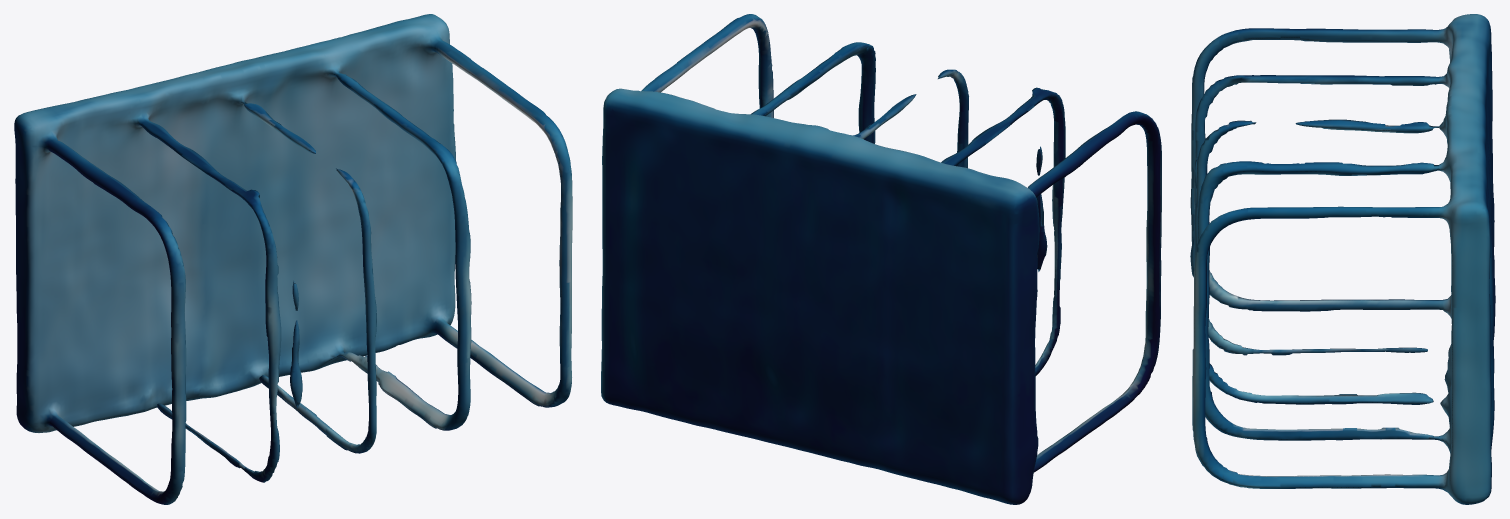
Rendered from sorter.glb.
The picture shows the model from 3 angles, left to right: view 1: azimuth 30°, elevation 25°; view 2: azimuth 150°, elevation 25°; view 3: azimuth 270°, elevation 25°; orthographic projection. The views are drawn at different scales.
Size of the model in its own units: 0.9994 by 0.7182 by 0.6395.
